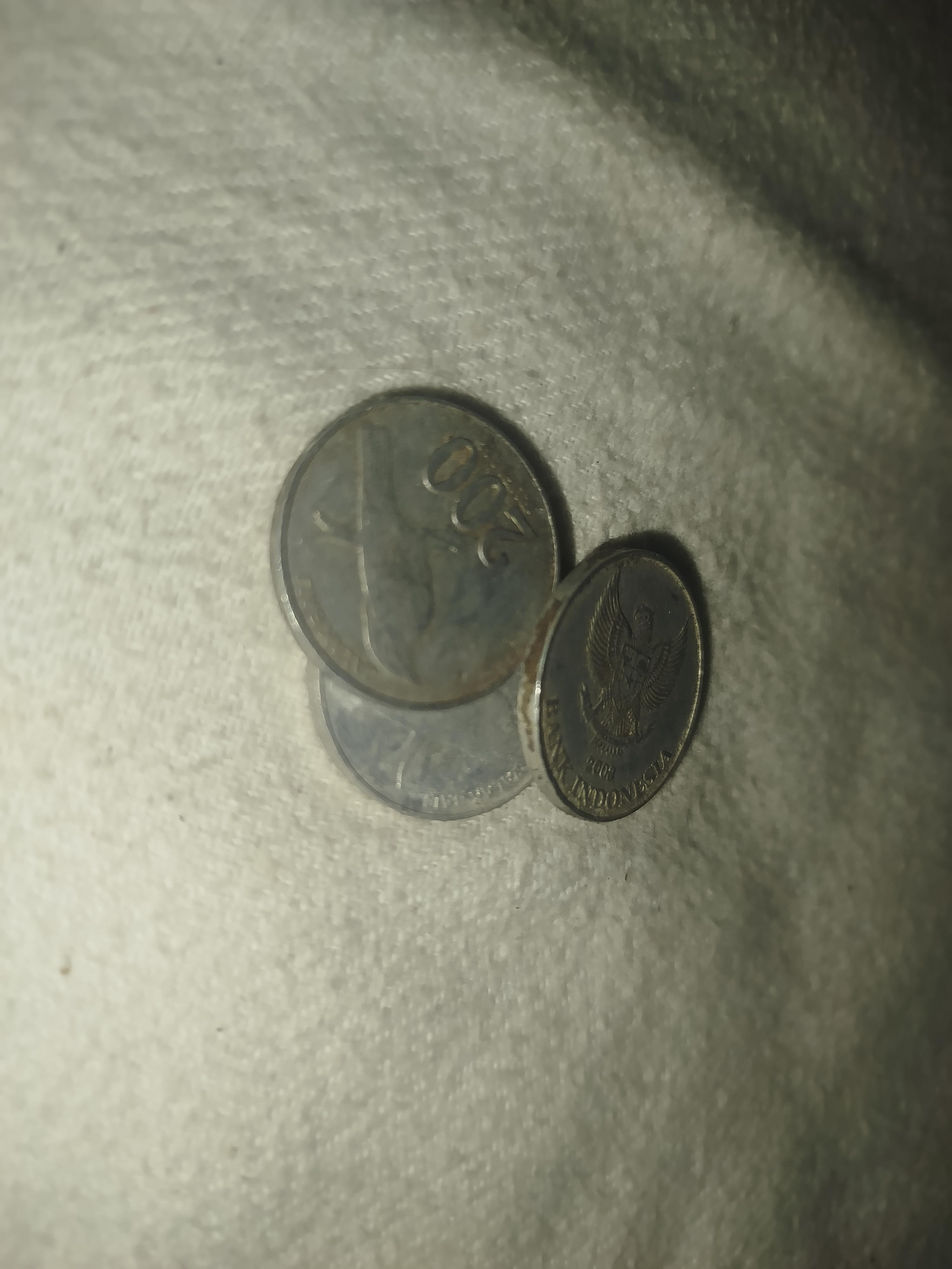coin_200_e2003: (274, 386, 565, 713), (516, 531, 714, 828)
